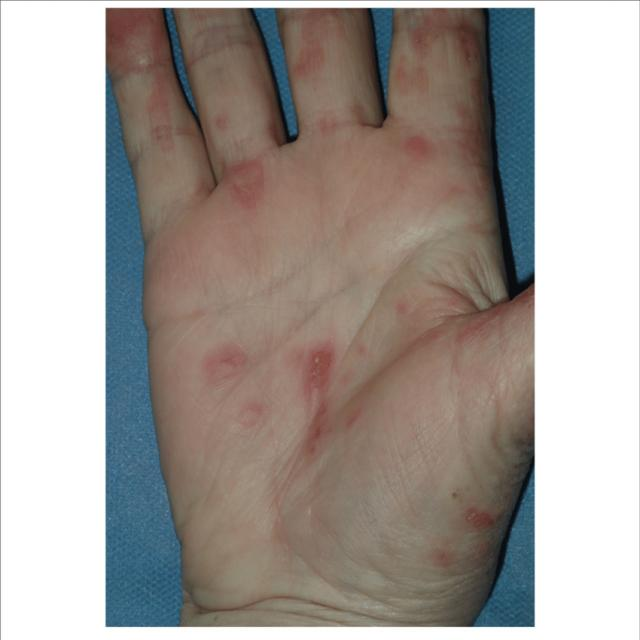Erythema multiforme -EM-: (187, 302, 373, 442)
